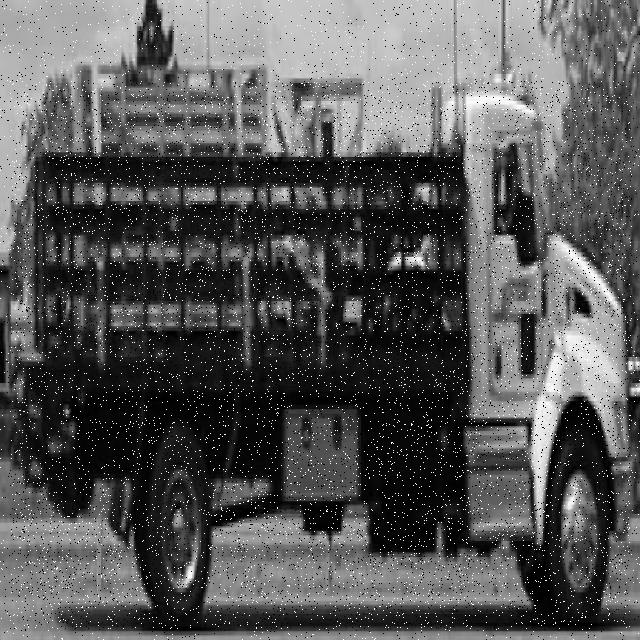Box Truck: (10, 81, 632, 629)
